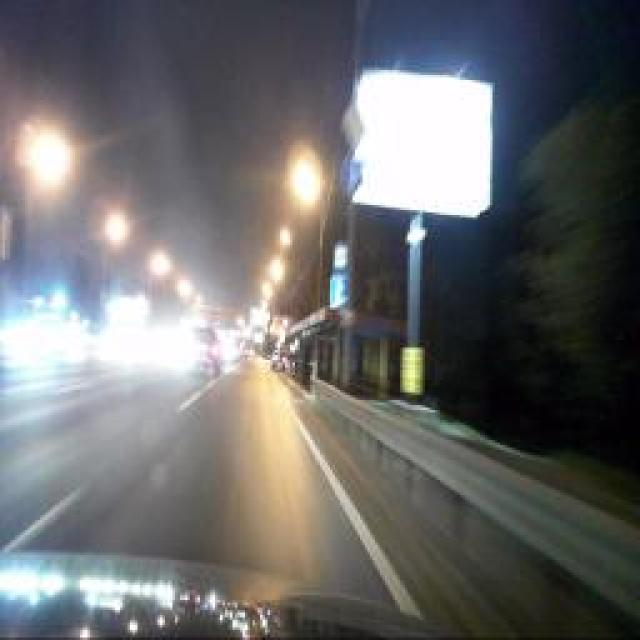sign: (340, 151, 362, 191)
